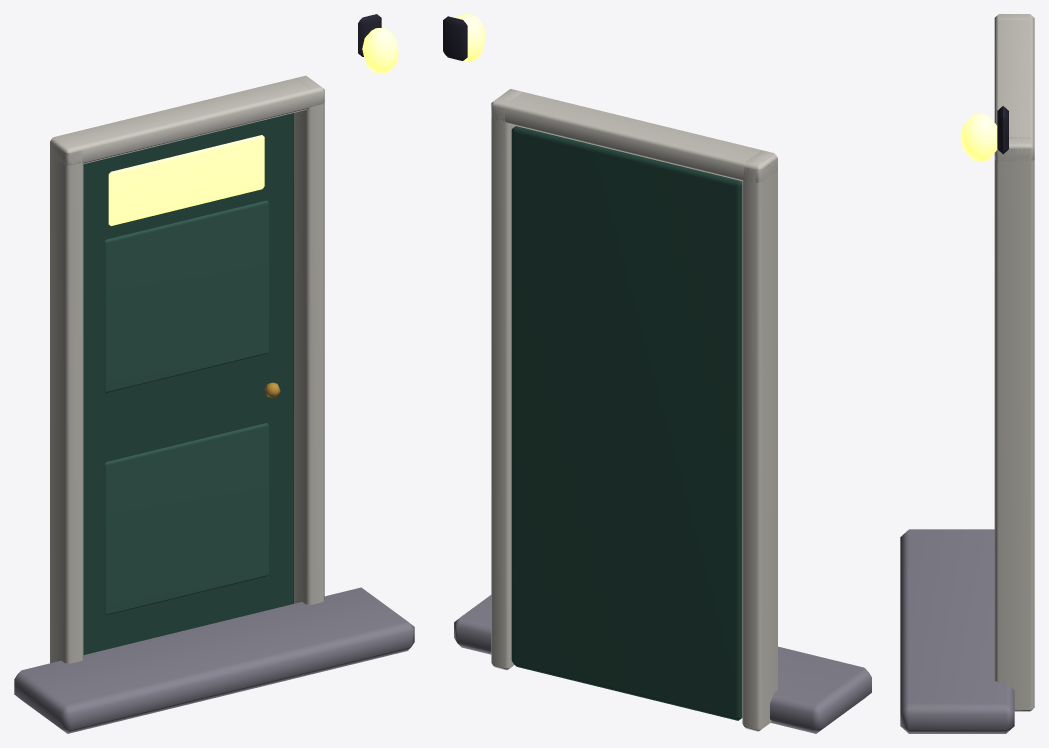
The model's file is door.glb.
3 renders of one model, left to right at view 1: azimuth 30°, elevation 25°; view 2: azimuth 150°, elevation 25°; view 3: azimuth 270°, elevation 25°, orthographic. The views are drawn at different scales.
Visible parts, largest first — view 1: door.001, door; view 2: door.001, door; view 3: door.
Boxes of the visible parts, left/top/right/bottom form: door.001: left=83, top=113, right=293, bottom=654; door: left=14, top=14, right=414, bottom=733; door.001: left=511, top=126, right=742, bottom=720; door: left=443, top=14, right=871, bottom=733; door: left=900, top=14, right=1034, bottom=733.
Bounding box in the file's own units: 1.57 × 2.43 × 0.47.
